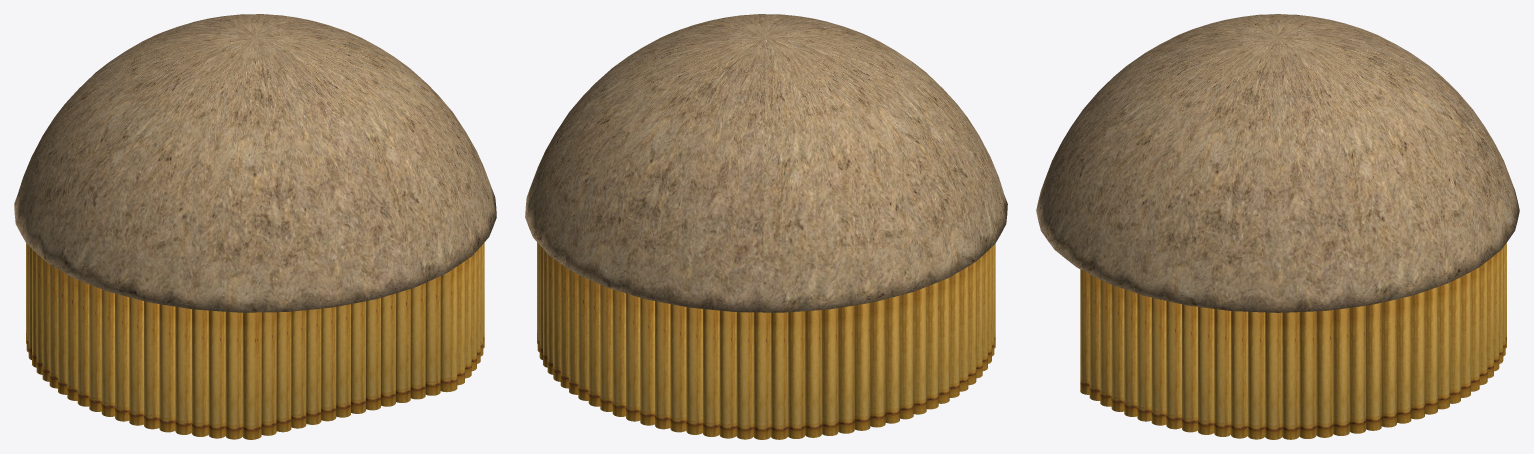
The model's file is honai-1.glb.
3 views of the same model, side by side, from view 1: azimuth 30°, elevation 25°; view 2: azimuth 150°, elevation 25°; view 3: azimuth 270°, elevation 25° (orthographic).
Visible parts, largest first — view 1: Sphere.002.2, Cylinder.1, Cylinder.013.5, Cylinder.012.4; view 2: Sphere.002.2, Cylinder.1; view 3: Sphere.002.2, Cylinder.1.
Part boxes in pixels (<box>): Sphere.002.2: <box>14,14,496,312</box>; Cylinder.1: <box>26,242,484,439</box>; Cylinder.013.5: <box>351,270,451,413</box>; Cylinder.012.4: <box>257,304,350,438</box>; Sphere.002.2: <box>525,14,1007,312</box>; Cylinder.1: <box>537,242,995,439</box>; Sphere.002.2: <box>1036,14,1519,312</box>; Cylinder.1: <box>1080,243,1506,439</box>.
Size of the model in its own units: 438 by 305 by 438.
Materials: 4 (4 with a texture image).
